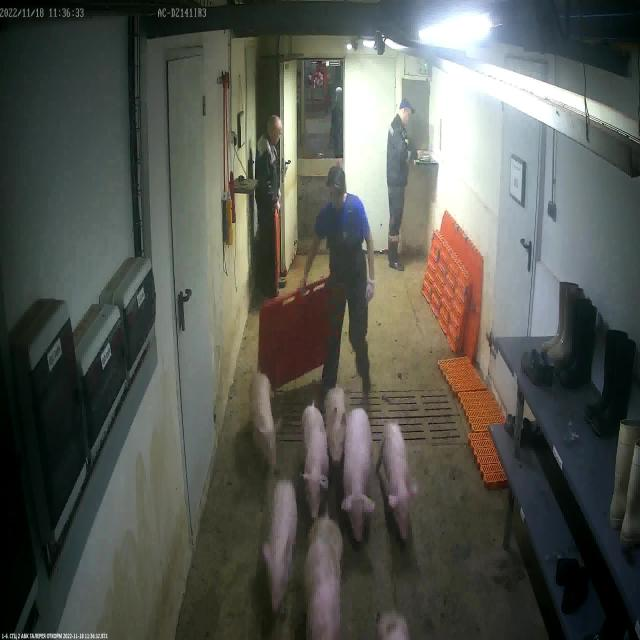pig: (305, 518, 345, 640), (342, 408, 377, 545), (264, 483, 298, 614), (382, 423, 414, 550), (298, 407, 328, 520), (248, 373, 279, 471), (326, 387, 348, 479)
